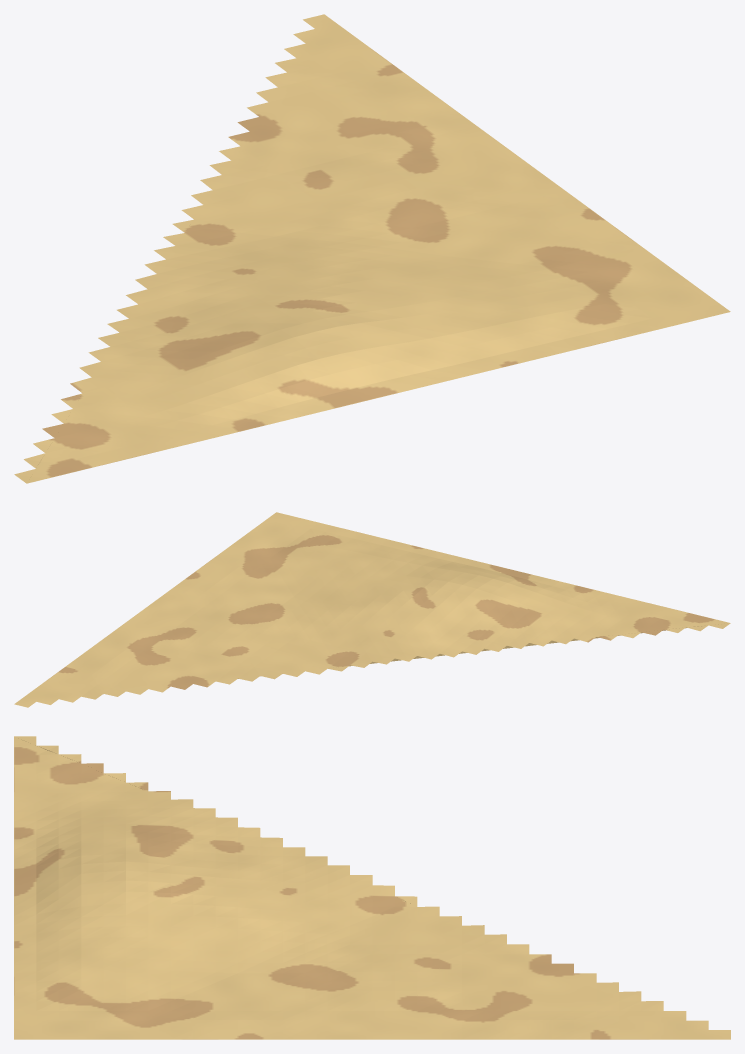
The model's file is Desert_Flat_12_NE.obj.
3 renders of one model, top to bottom at view 1: azimuth 30°, elevation 25°; view 2: azimuth 150°, elevation 25°; view 3: azimuth 270°, elevation 25°, orthographic. The views are drawn at different scales.
Bounding box in the file's own units: 10 × 0.2661 × 10.
Materials: 1 (1 with a texture image).
